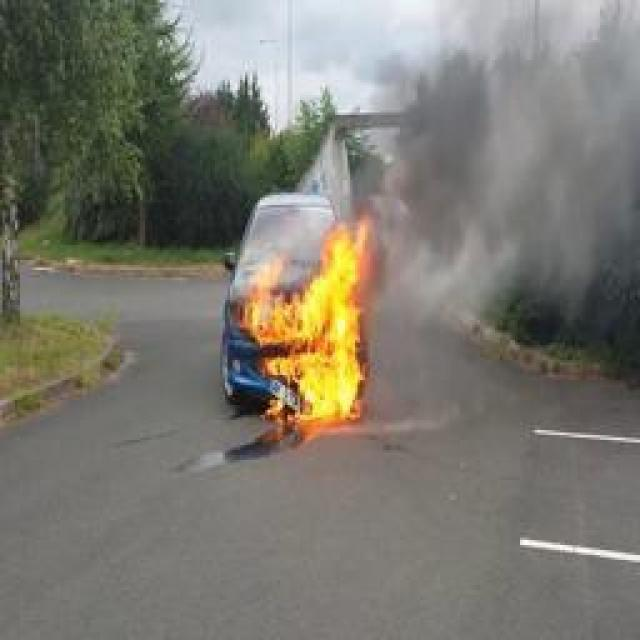Fire: (244, 208, 376, 422)
